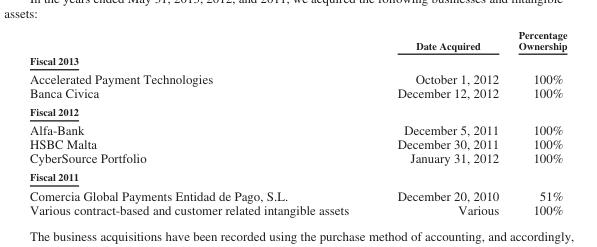table: (28, 28, 566, 216)
table column: (28, 28, 372, 216), (372, 28, 507, 216), (507, 28, 566, 216)
table column header: (28, 28, 566, 52)
table projected row header: (28, 102, 566, 120), (28, 52, 566, 69), (28, 168, 566, 185)
table row: (28, 28, 566, 52), (28, 102, 566, 120), (28, 52, 566, 69), (28, 85, 566, 102), (28, 120, 566, 137), (28, 151, 566, 168), (28, 168, 566, 185), (28, 185, 566, 202), (28, 69, 566, 85), (28, 137, 566, 151), (28, 202, 566, 216)
